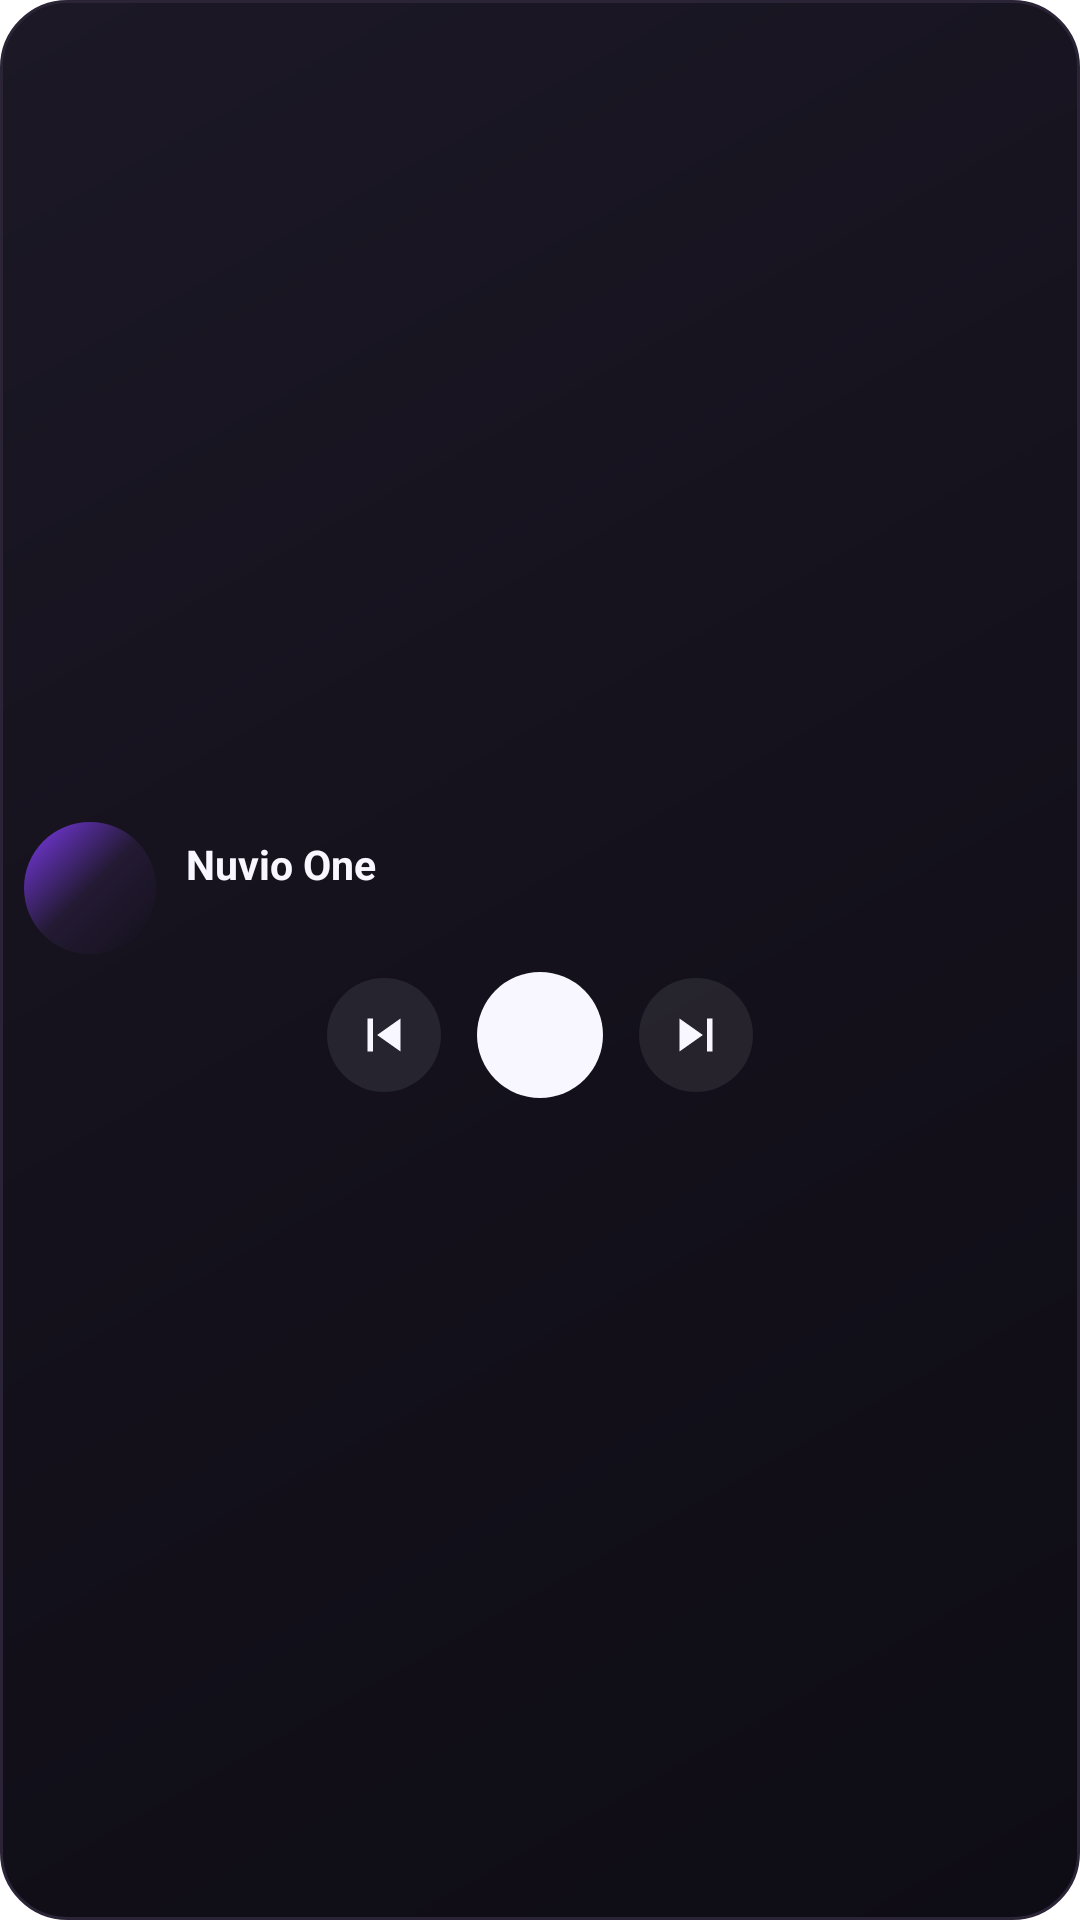

Icons on this 1080 × 1920 Android screen, each with its box as [left=x1, top=y1, right=x2, bottom=y2]:
music widget next: [left=679, top=1018, right=713, bottom=1052]
music widget previous: [left=367, top=1018, right=401, bottom=1052]
